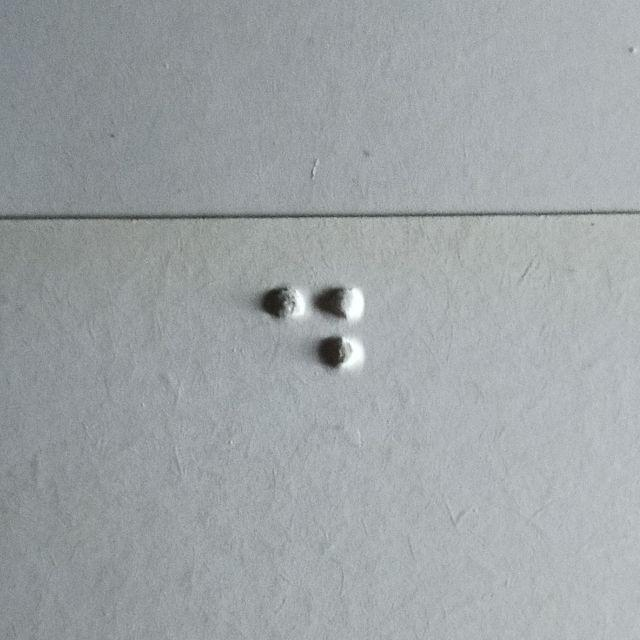dahil: (262, 286, 363, 432)
